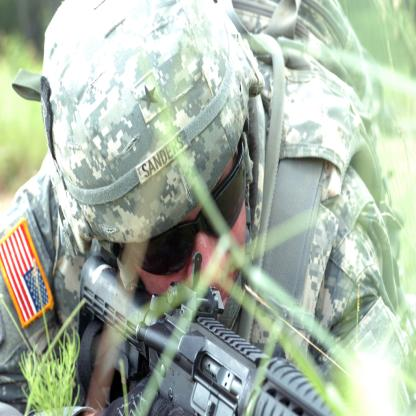Helmet: (22, 13, 280, 368)
